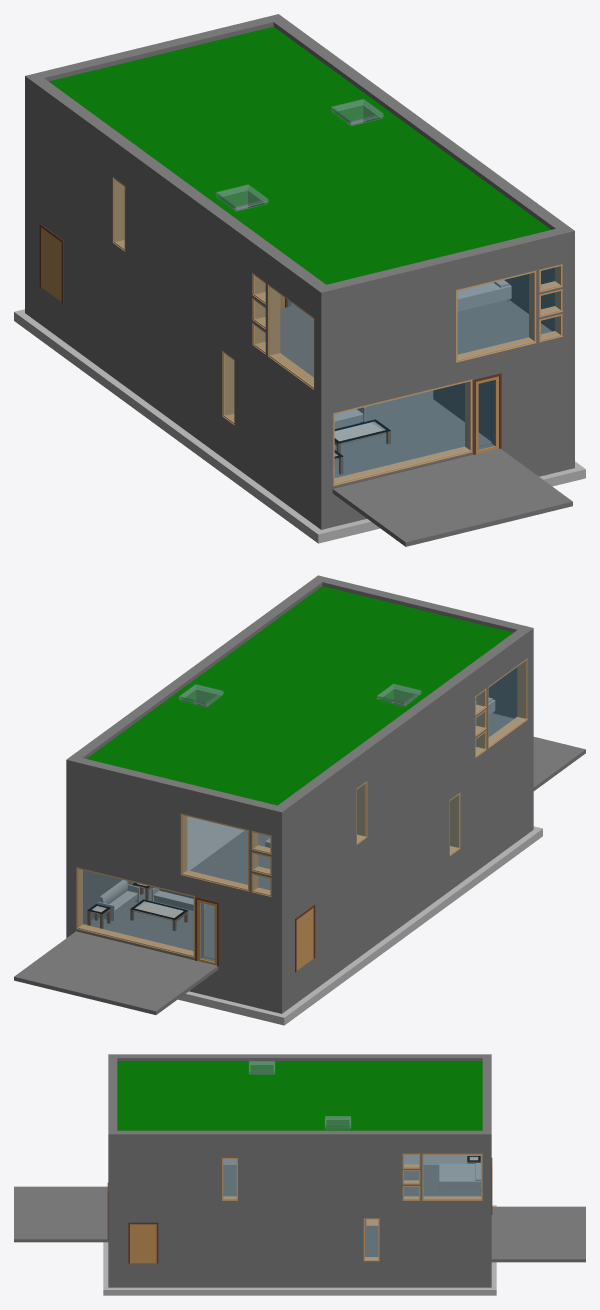
Rendered from demo_duplex_dae.dae.
3 renders of one model, top to bottom at view 1: azimuth 30°, elevation 25°; view 2: azimuth 150°, elevation 25°; view 3: azimuth 270°, elevation 25°, orthographic. The views are drawn at different scales.
Visible parts, largest first — view 1: 3ThA22djr8AQQ9eQMA5s7I, 2O2Fr$t4X7Zf8NOew3FNhv, 2O2Fr$t4X7Zf8NOew3FLPP, 2O2Fr$t4X7Zf8NOew3FLOH, 1CZILmCaHETO8tf3SgGEXu, 2O2Fr$t4X7Zf8NOew3FNr2, 2O2Fr$t4X7Zf8NOew3FKE5, 1hOSvn6df7F8_7GcBWlRBU, 0jf0rYHfX3RAB3bSIRjmr1, 2OBrcmyk58NupXoVOHUtxr, 0jf0rYHfX3RAB3bSIRjmoa, 1hOSvn6df7F8_7GcBWlS_W (+19 smaller); view 2: 3ThA22djr8AQQ9eQMA5s7I, 2O2Fr$t4X7Zf8NOew3FNhv, 2O2Fr$t4X7Zf8NOew3FLPP, 2O2Fr$t4X7Zf8NOew3FLQD, 1CZILmCaHETO8tf3SgGEWh, 2O2Fr$t4X7Zf8NOew3FNtn, 2O2Fr$t4X7Zf8NOew3FKE5, 1hOSvn6df7F8_7GcBWlR72, 0jf0rYHfX3RAB3bSIRjmr1, 0jf0rYHfX3RAB3bSIRjmmy, 1hOSvn6df7F8_7GcBWlSXO, 0kF45Qs8L9PAM9kmb1lT5t (+20 smaller); view 3: 3ThA22djr8AQQ9eQMA5s7I, 2O2Fr$t4X7Zf8NOew3FNqI, 2O2Fr$t4X7Zf8NOew3FLR9, 2O2Fr$t4X7Zf8NOew3FK9N, 0jf0rYHfX3RAB3bSIRjmpw, 1CZILmCaHETO8tf3SgGEWh, 1CZILmCaHETO8tf3SgGEXu, 0kF45Qs8L9PAM9kmb1lT5d, 1l0GAJtRTFv8$zmKJOH4pU, 0jf0rYHfX3RAB3bSIRjmr1, 1hOSvn6df7F8_7GcBWlRGQ, 2OBrcmyk58NupXoVOHUtDX (+10 smaller).
Boxes of the visible parts, x1,y1,x2,y2 form: 3ThA22djr8AQQ9eQMA5s7I: (49, 26, 550, 284); 2O2Fr$t4X7Zf8NOew3FNhv: (32, 187, 314, 486); 2O2Fr$t4X7Zf8NOew3FLPP: (25, 94, 321, 398); 2O2Fr$t4X7Zf8NOew3FLOH: (321, 249, 574, 398); 1CZILmCaHETO8tf3SgGEXu: (332, 448, 572, 546); 2O2Fr$t4X7Zf8NOew3FNr2: (314, 340, 562, 491); 2O2Fr$t4X7Zf8NOew3FKE5: (32, 281, 314, 524); 1hOSvn6df7F8_7GcBWlRBU: (333, 379, 472, 486); 0jf0rYHfX3RAB3bSIRjmr1: (32, 78, 325, 305); 2OBrcmyk58NupXoVOHUtxr: (334, 390, 491, 477); 0jf0rYHfX3RAB3bSIRjmoa: (314, 229, 562, 310); 1hOSvn6df7F8_7GcBWlS_W: (456, 270, 536, 362); 3ThA22djr8AQQ9eQMA5s7I: (86, 586, 513, 805); 2O2Fr$t4X7Zf8NOew3FNhv: (287, 722, 527, 977); 2O2Fr$t4X7Zf8NOew3FLPP: (282, 644, 533, 901); 2O2Fr$t4X7Zf8NOew3FLQD: (66, 775, 281, 902); 1CZILmCaHETO8tf3SgGEWh: (14, 931, 218, 1014); 2O2Fr$t4X7Zf8NOew3FNtn: (66, 850, 287, 981); 2O2Fr$t4X7Zf8NOew3FKE5: (287, 802, 527, 1009); 1hOSvn6df7F8_7GcBWlR72: (76, 867, 194, 957); 0jf0rYHfX3RAB3bSIRjmr1: (278, 630, 527, 823); 0jf0rYHfX3RAB3bSIRjmmy: (66, 755, 287, 827); 1hOSvn6df7F8_7GcBWlSXO: (180, 813, 249, 891); 0kF45Qs8L9PAM9kmb1lT5t: (262, 836, 530, 1025); 3ThA22djr8AQQ9eQMA5s7I: (117, 1061, 482, 1130); 2O2Fr$t4X7Zf8NOew3FNqI: (108, 1202, 482, 1263); 2O2Fr$t4X7Zf8NOew3FLR9: (108, 1146, 491, 1202); 2O2Fr$t4X7Zf8NOew3FK9N: (108, 1263, 482, 1287); 0jf0rYHfX3RAB3bSIRjmpw: (108, 1130, 482, 1146); 1CZILmCaHETO8tf3SgGEWh: (491, 1206, 585, 1262); 1CZILmCaHETO8tf3SgGEXu: (14, 1186, 108, 1242); 0kF45Qs8L9PAM9kmb1lT5d: (103, 1281, 496, 1295); 1l0GAJtRTFv8$zmKJOH4pU: (422, 1153, 482, 1200); 0jf0rYHfX3RAB3bSIRjmr1: (117, 1054, 482, 1060); 1hOSvn6df7F8_7GcBWlRGQ: (128, 1222, 158, 1263); 2OBrcmyk58NupXoVOHUtDX: (404, 1165, 481, 1196).
Bounding box in the file's own units: 9.28 × 26.57 × 8.18.
